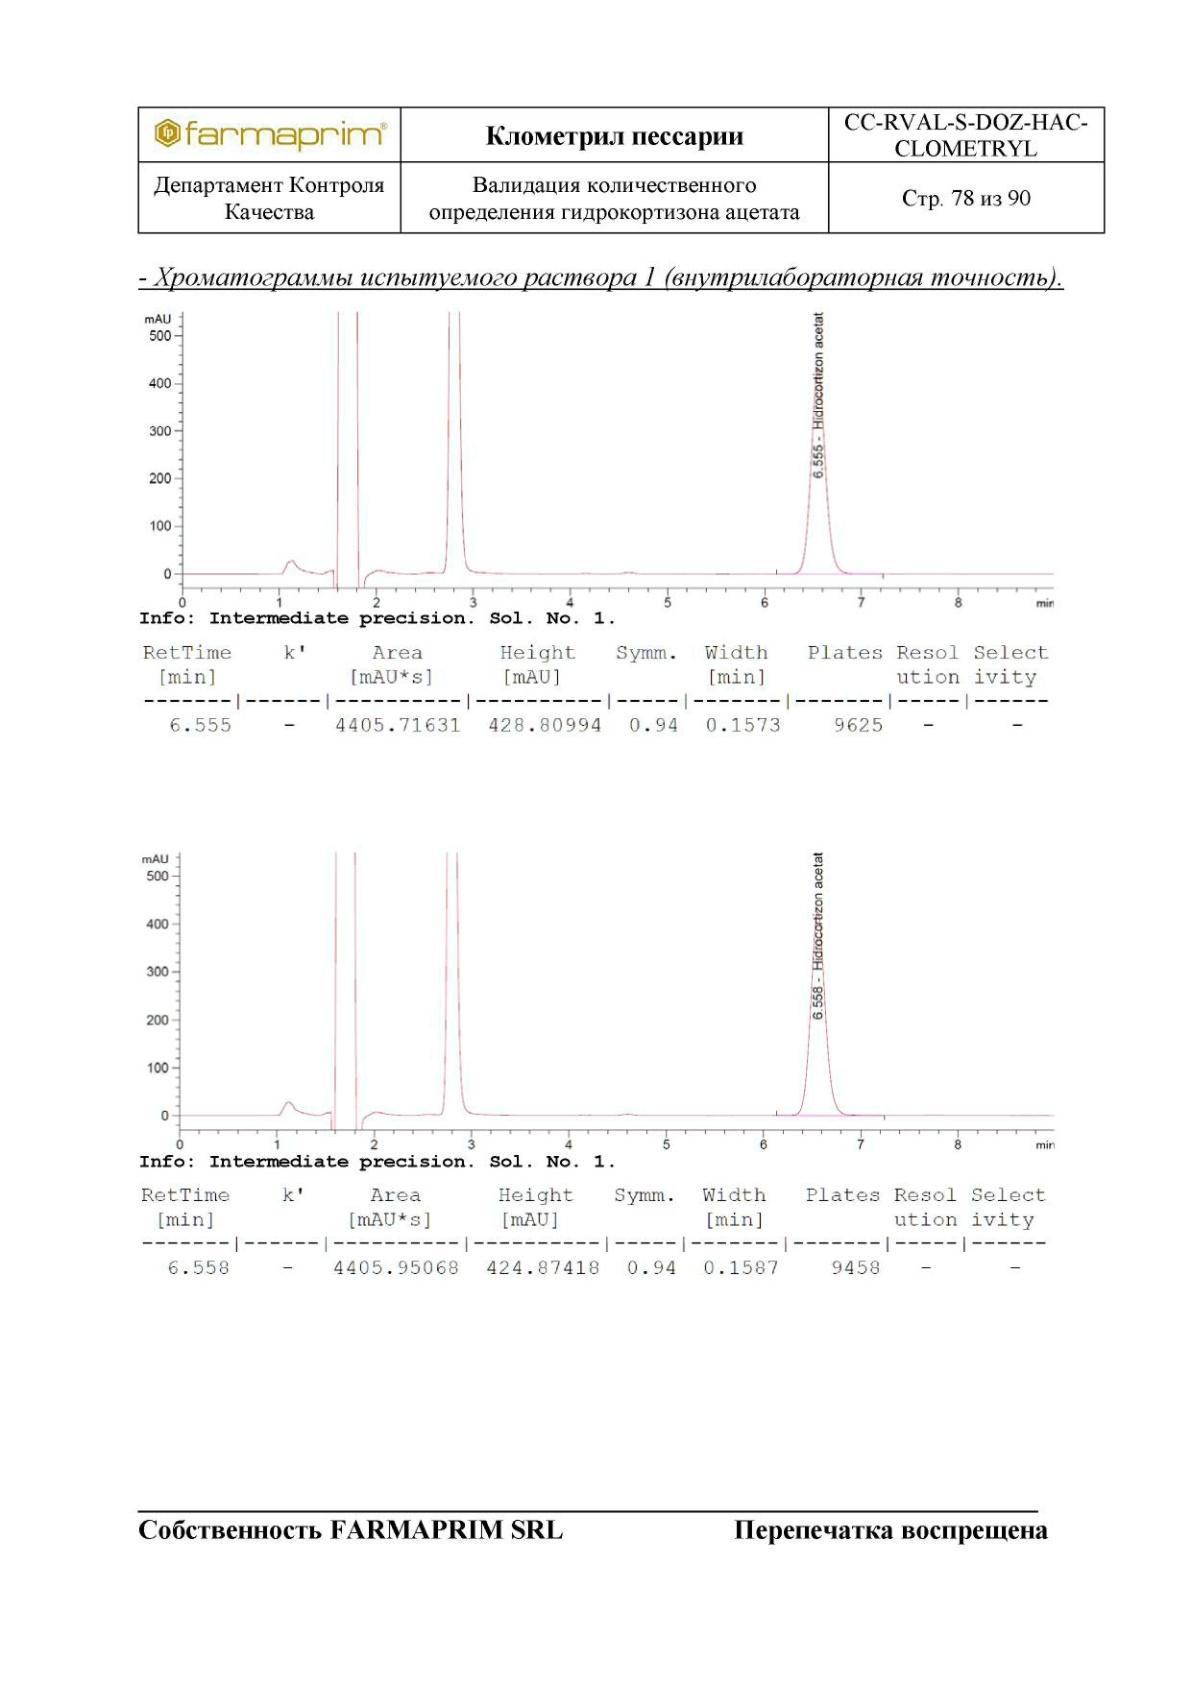full_lined: (135, 104, 1106, 235)
partial_lined: (139, 640, 1057, 741), (137, 1182, 1050, 1280)
